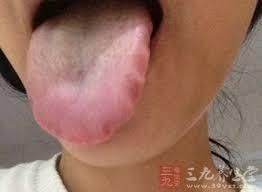baitaishe: (28, 13, 151, 144)
chihenshe: (126, 45, 150, 108)
